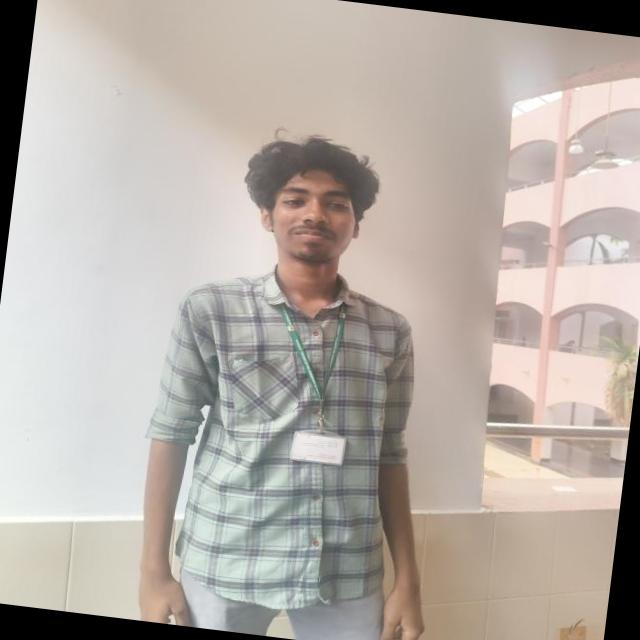id_card: (268, 295, 366, 472)
